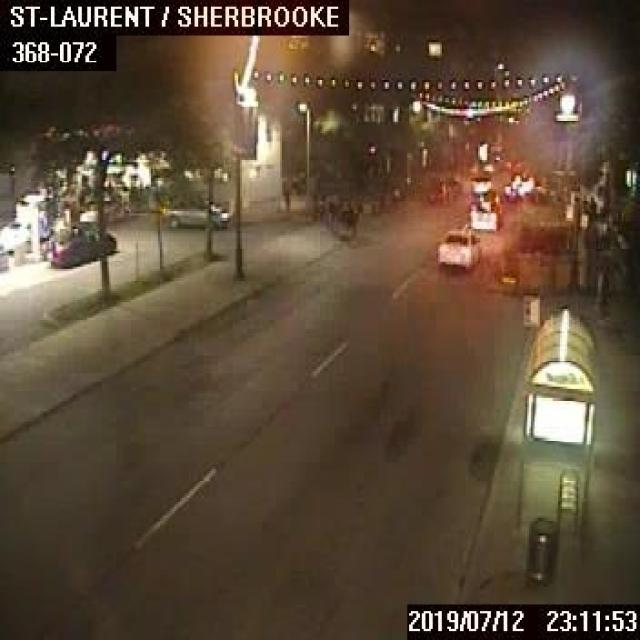vehicle: (41, 227, 114, 266), (433, 222, 479, 266), (0, 210, 49, 250), (163, 200, 230, 228), (466, 199, 502, 230), (419, 176, 446, 203), (470, 173, 490, 194), (501, 180, 521, 200), (479, 187, 500, 204)
